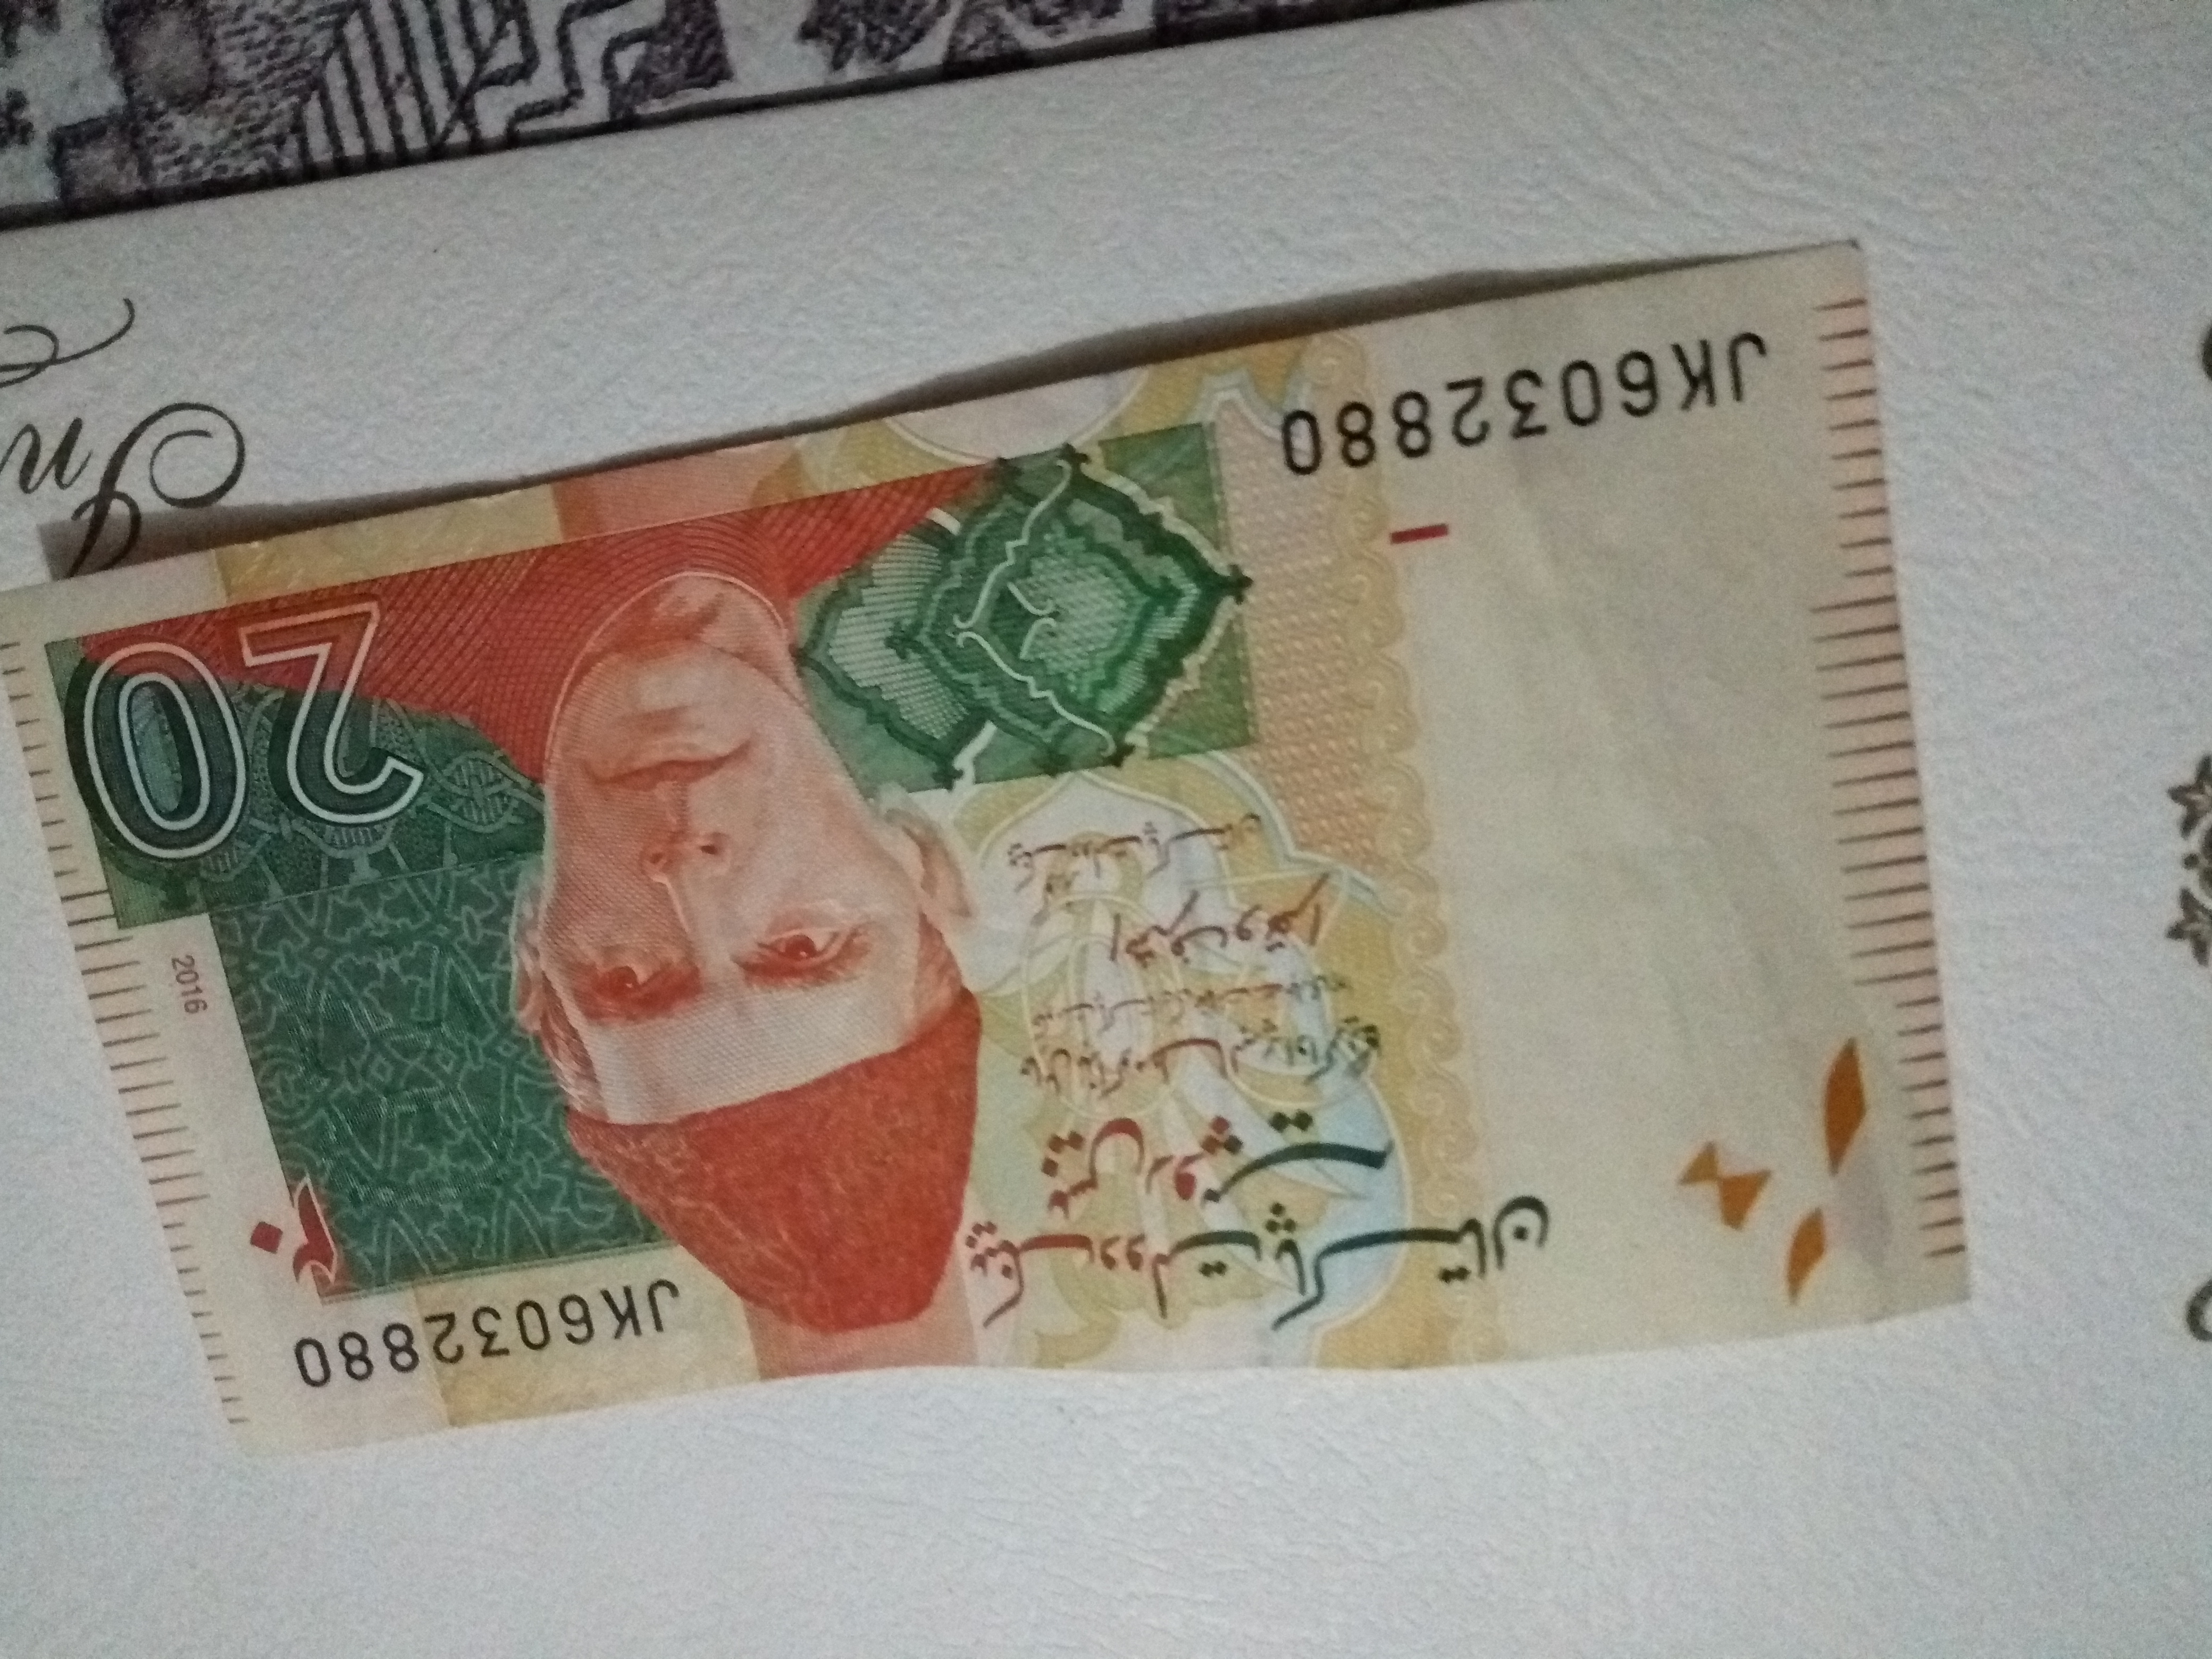20 rupee: (51, 237, 1993, 1521)
